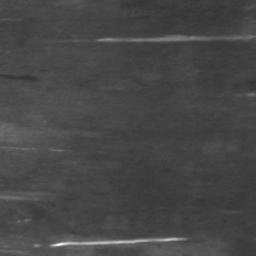Bright scratch: (51, 237, 189, 248), (99, 35, 256, 44)
